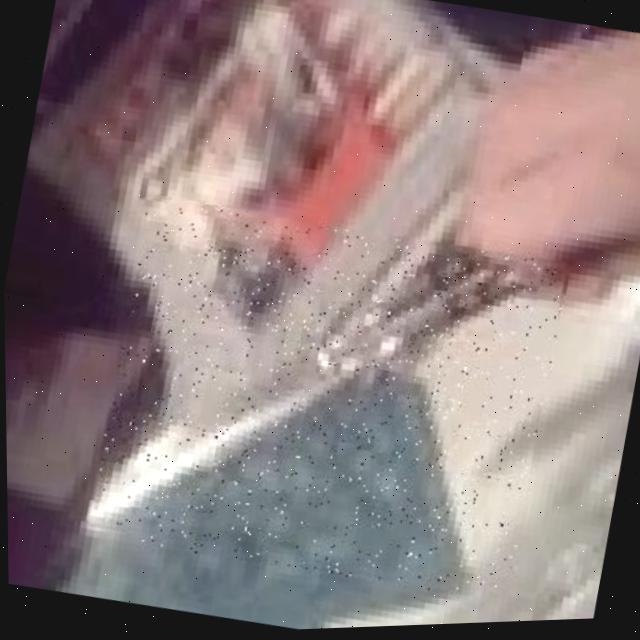knife: (82, 184, 572, 616)
